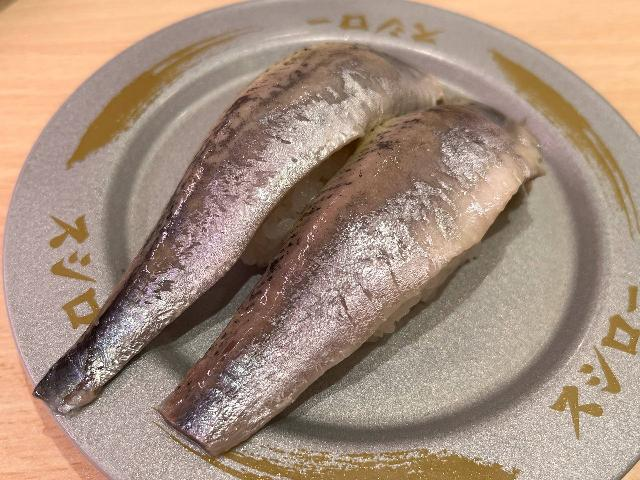janwhite: (11, 21, 611, 470)
